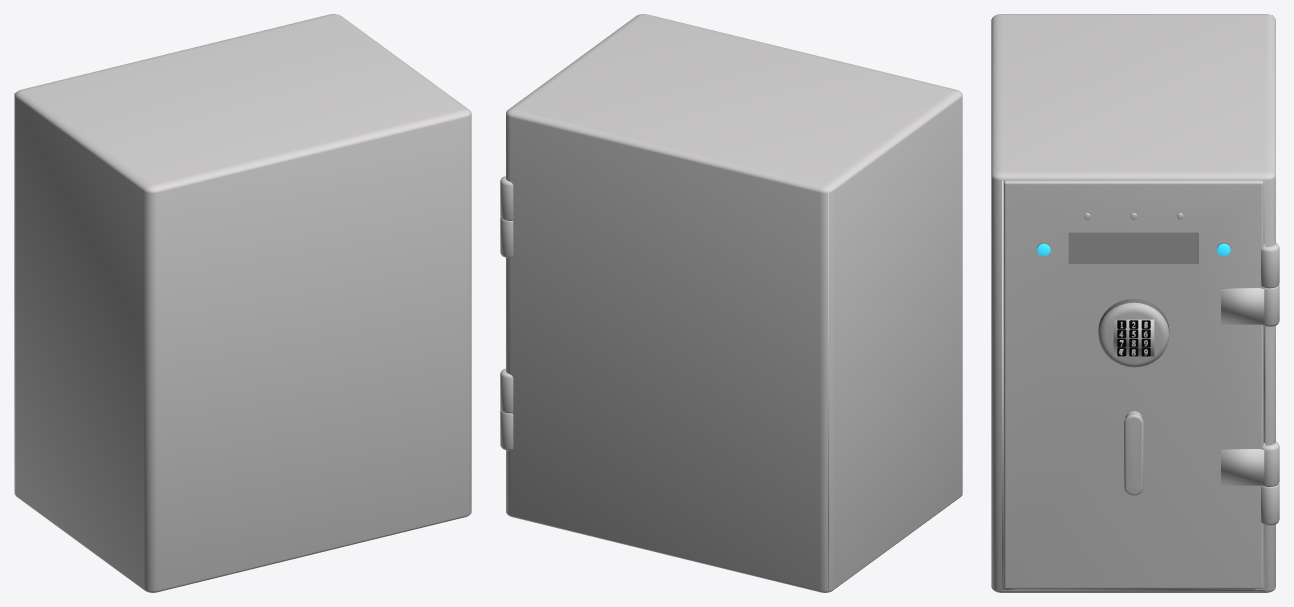
The model's file is safe.fbx.
The picture shows the model from 3 angles, left to right: view 1: azimuth 30°, elevation 25°; view 2: azimuth 150°, elevation 25°; view 3: azimuth 270°, elevation 25°; orthographic projection. The views are drawn at different scales.
Parts seen in each view (by area): view 1: Cube-Null Object.1; view 2: Cube-Null Object.1; view 3: Cube.1.2, Cube-Null Object.1, pPlane1, Cylinder.5, Cube.3.2, Cube.4.2, Cylinder.2.3, Cube.1.3, Cube.5.2, Cylinder.3, Cube.3.3, Cube.7.2 (+3 smaller).
Boxes of the visible parts, x1,y1,x2,y2 form: Cube-Null Object.1: [14, 14, 471, 592]; Cube-Null Object.1: [506, 14, 962, 592]; Cube.1.2: [1003, 180, 1263, 588]; Cube-Null Object.1: [991, 14, 1275, 592]; pPlane1: [1068, 232, 1198, 263]; Cylinder.5: [1098, 298, 1169, 367]; Cube.3.2: [1221, 288, 1264, 324]; Cube.4.2: [1221, 449, 1264, 485]; Cylinder.2.3: [1124, 414, 1143, 495]; Cube.1.3: [1002, 180, 1013, 589]; Cube.5.2: [1113, 319, 1154, 356]; Cylinder.3: [1261, 243, 1279, 288]; Cube.3.3: [1255, 15, 1272, 589]; Cube.7.2: [1002, 588, 1265, 590].
Size of the model in its own units: 703 by 796 by 495.
Materials: 19 (1 with a texture image).
